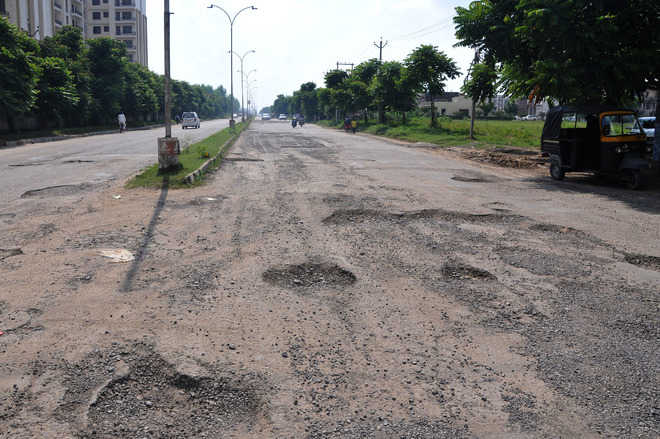pothole: (91, 328, 293, 438), (321, 181, 531, 241), (269, 253, 389, 322), (19, 157, 104, 199), (429, 269, 505, 299), (446, 169, 522, 198)
